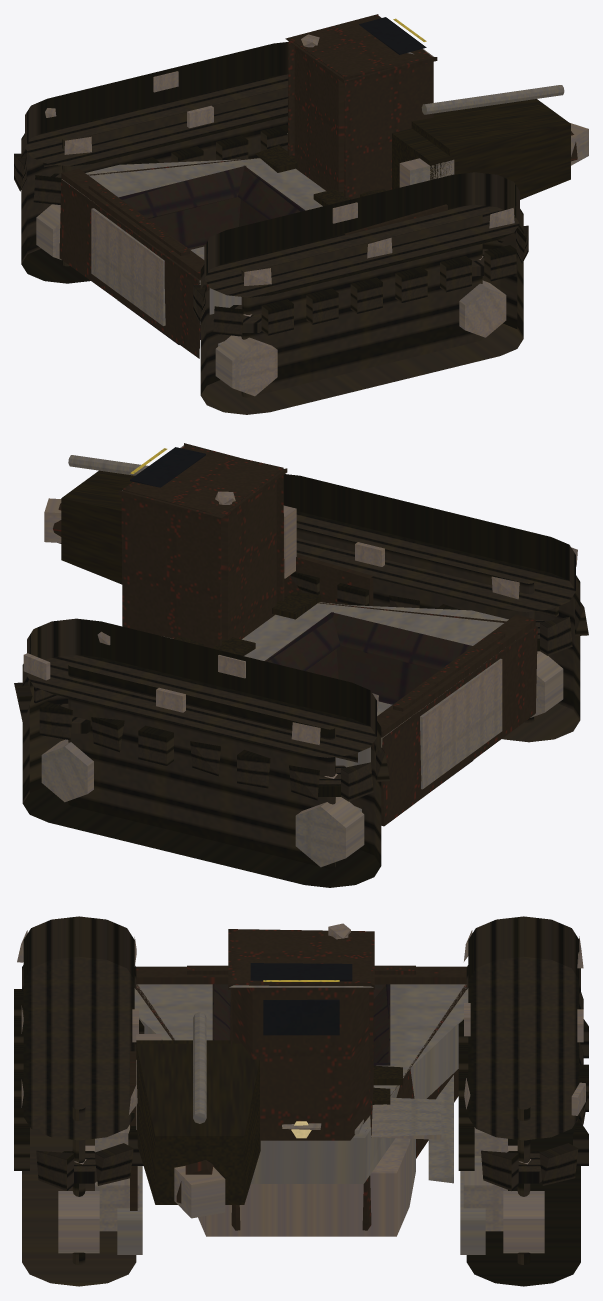
File: rover_lod2.glb
The picture shows the model from 3 angles, top to bottom: view 1: azimuth 30°, elevation 25°; view 2: azimuth 150°, elevation 25°; view 3: azimuth 270°, elevation 25°; orthographic projection. The views are drawn at different scales.
Visible parts, largest first — view 1: LOD2_Merged_Material_Track, LOD2_Merged_Material_Scar, LOD2_Merged_Material_Steel, LOD2_Merged_Material_Chevron_Boom, LOD2_Merged_Material_Rubble, track_R, hopper_lid, LOD2_Merged_Material_Steel_Boom, track_L, LOD2_Merged_Material_Chevron, LOD2_Merged_Material_Glass; view 2: LOD2_Merged_Material_Track, LOD2_Merged_Material_Scar, LOD2_Merged_Material_Steel, LOD2_Merged_Material_Rubble, track_L, hopper_lid, LOD2_Merged_Material_Chevron_Boom, track_R, LOD2_Merged_Material_Steel_Boom, scar_plate, LOD2_Merged_Material_Chevron, LOD2_Merged_Material_Glass; view 3: LOD2_Merged_Material_Track, LOD2_Merged_Material_Steel, LOD2_Merged_Material_Scar, LOD2_Merged_Material_Chevron_Boom, track_L, track_R, LOD2_Merged_Material_Glass, LOD2_Merged_Material_Steel_Boom, LOD2_Merged_Material_Rubble, LOD2_Merged_Material_Chevron, scar_plate.
Part boxes in pixels (x1,y1,x2,y2): LOD2_Merged_Material_Track: (21,42,523,414); LOD2_Merged_Material_Scar: (59,14,437,358); LOD2_Merged_Material_Steel: (36,34,514,396); LOD2_Merged_Material_Chevron_Boom: (392,99,570,199); LOD2_Merged_Material_Rubble: (119,165,305,249); track_R: (193,225,528,336); hopper_lid: (91,208,165,325); LOD2_Merged_Material_Steel_Boom: (399,85,588,187); track_L: (14,124,287,204); LOD2_Merged_Material_Chevron: (255,145,385,206); LOD2_Merged_Material_Glass: (359,17,426,54); LOD2_Merged_Material_Track: (22,474,580,887); LOD2_Merged_Material_Scar: (118,443,537,826); LOD2_Merged_Material_Steel: (23,445,577,867); LOD2_Merged_Material_Rubble: (264,612,472,704); track_L: (14,682,389,801); hopper_lid: (420,658,502,789); LOD2_Merged_Material_Chevron_Boom: (61,470,134,584); track_R: (290,572,588,655); LOD2_Merged_Material_Steel_Boom: (44,455,296,578); scar_plate: (284,554,373,605); LOD2_Merged_Material_Chevron: (174,591,320,655); LOD2_Merged_Material_Glass: (130,447,205,487); LOD2_Merged_Material_Track: (22,916,580,1286); LOD2_Merged_Material_Steel: (17,923,585,1254); LOD2_Merged_Material_Scar: (136,929,466,1230); LOD2_Merged_Material_Chevron_Boom: (136,1040,260,1204); track_L: (458,992,588,1190); track_R: (14,989,144,1190); LOD2_Merged_Material_Glass: (250,963,352,1035); LOD2_Merged_Material_Steel_Boom: (136,1012,225,1218); LOD2_Merged_Material_Rubble: (212,983,390,1065); LOD2_Merged_Material_Chevron: (372,1065,402,1104); scar_plate: (130,1051,137,1210).
Bounding box in the file's own units: 1.94 × 1.03 × 1.81.
1 material, 1 textured.
